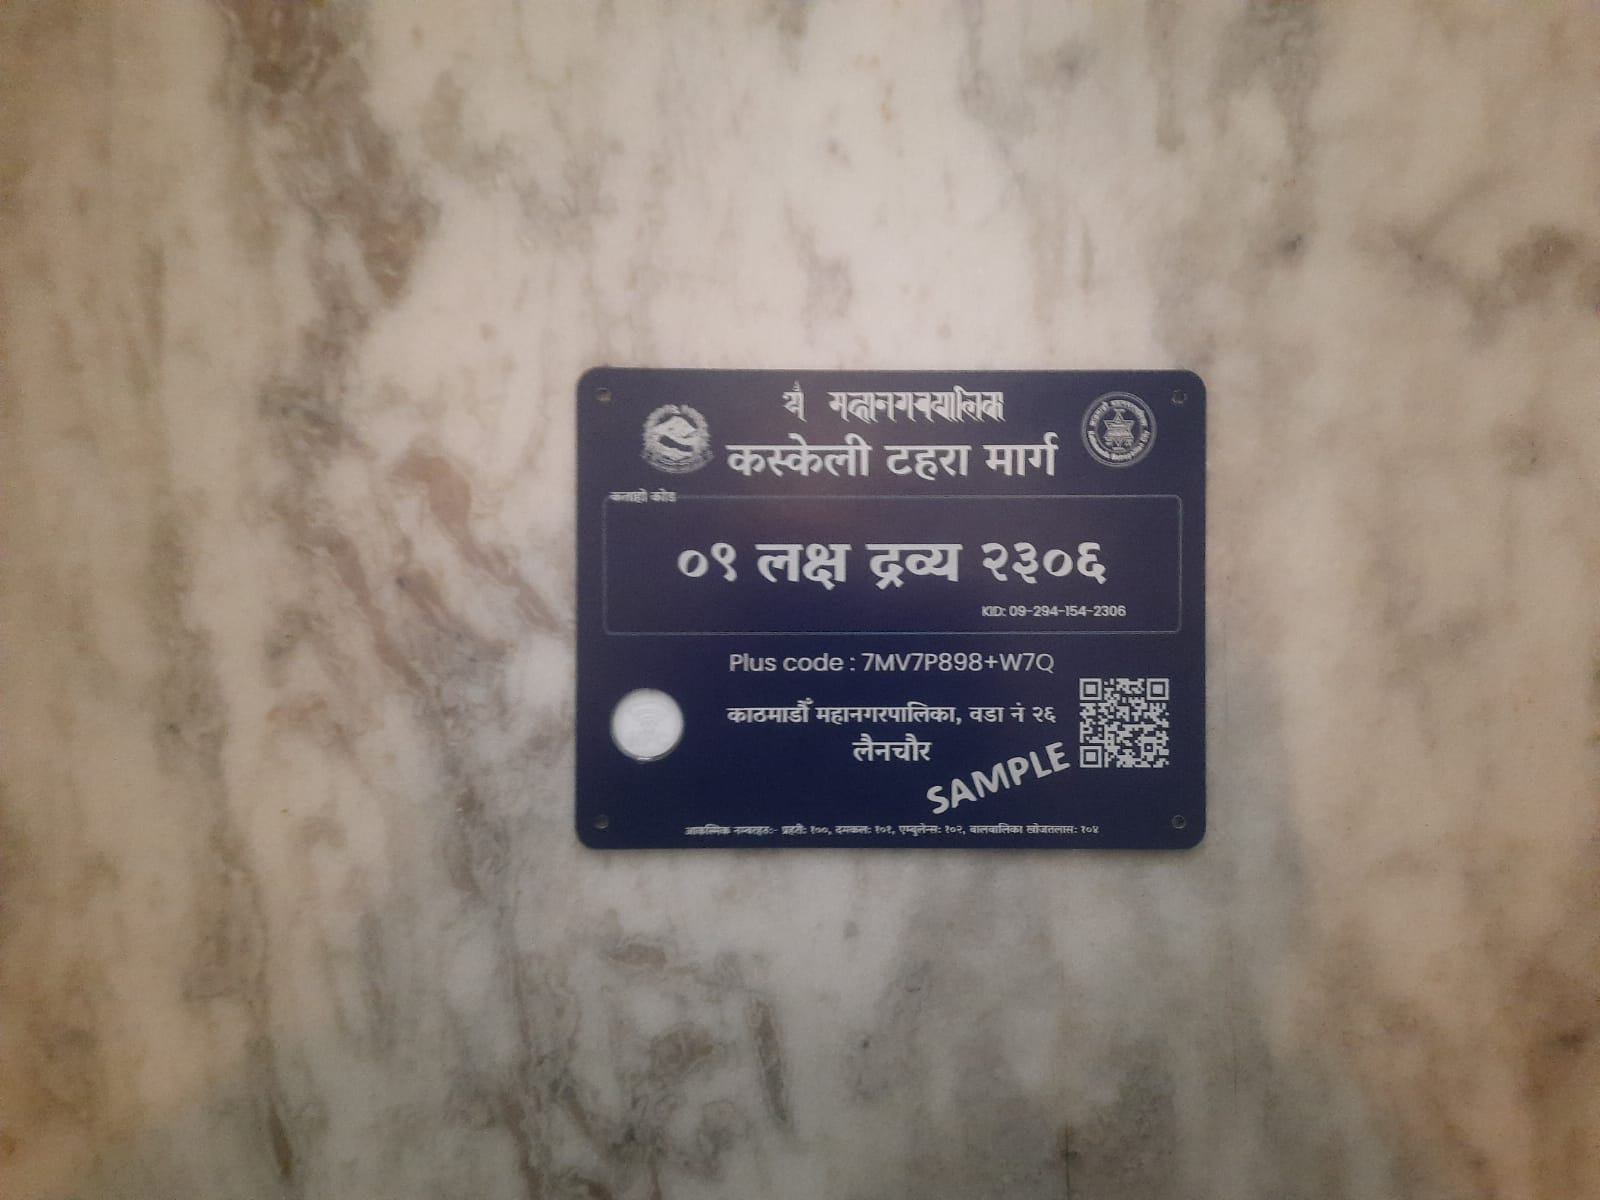Plate: (568, 364, 1216, 859)
